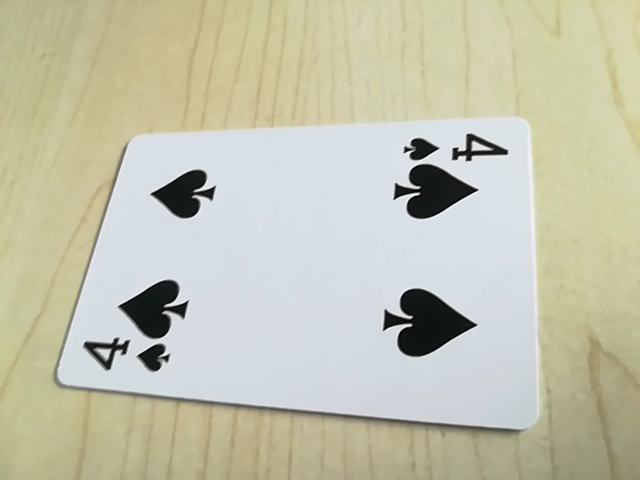ht 4: (75, 331, 181, 384), (394, 126, 510, 166)
